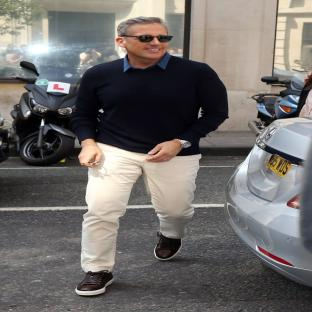Human: (70, 17, 228, 295)
